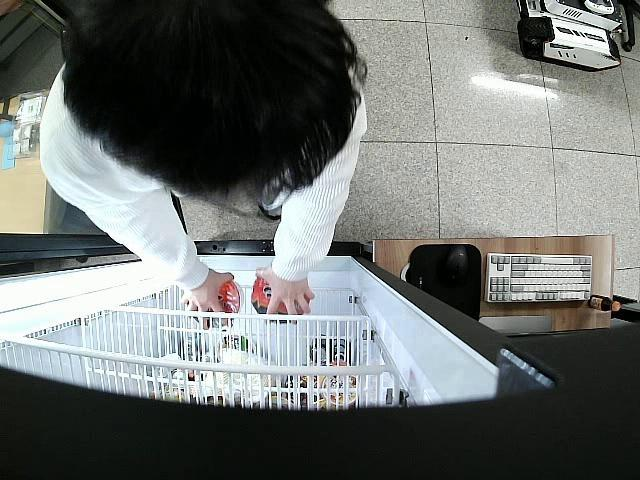01_ShinRamen_L: (188, 277, 246, 330), (250, 276, 304, 322)
